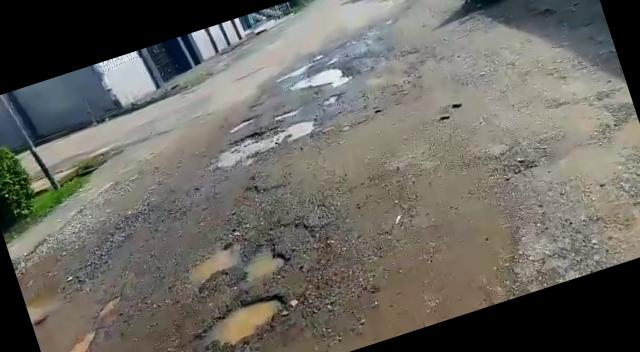pothole: (174, 226, 292, 304), (196, 114, 314, 177), (192, 287, 296, 352), (284, 58, 354, 99), (224, 113, 261, 133), (274, 104, 304, 121)
